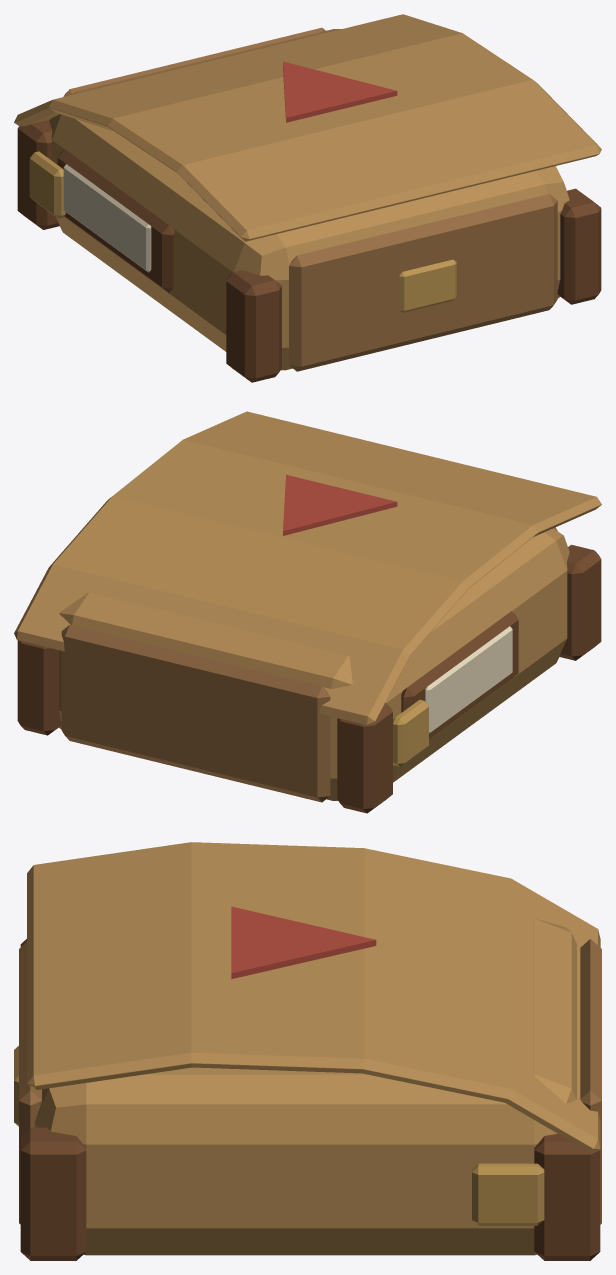
The model's file is mouse-mailbag-pouch.glb.
3 renders of one model, top to bottom at view 1: azimuth 30°, elevation 25°; view 2: azimuth 150°, elevation 25°; view 3: azimuth 270°, elevation 25°, orthographic. The views are drawn at different scales.
Visible parts, largest first — view 1: MouseMailbag_Pouch_GameReady; view 2: MouseMailbag_Pouch_GameReady; view 3: MouseMailbag_Pouch_GameReady.
Part boxes in pixels (<box>): MouseMailbag_Pouch_GameReady: <box>14,14,601,382</box>; MouseMailbag_Pouch_GameReady: <box>14,411,601,813</box>; MouseMailbag_Pouch_GameReady: <box>14,842,601,1260</box>.
Bounding box in the file's own units: 0.081 × 0.0395 × 0.0892.
